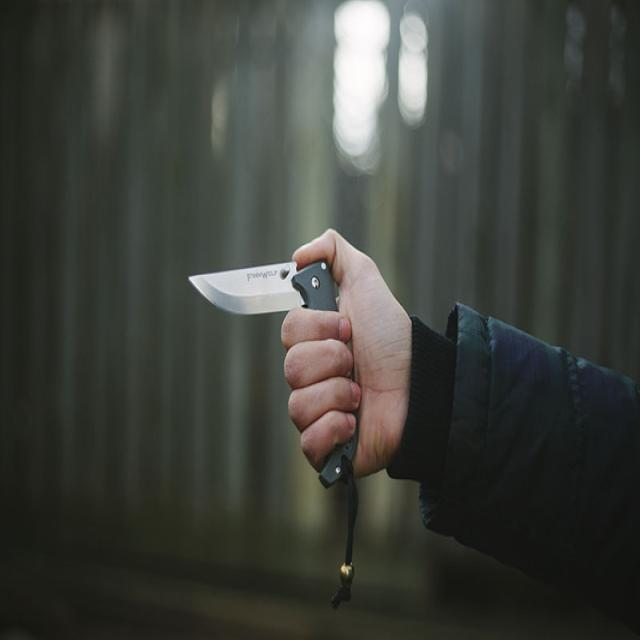knife: (187, 259, 338, 320)
